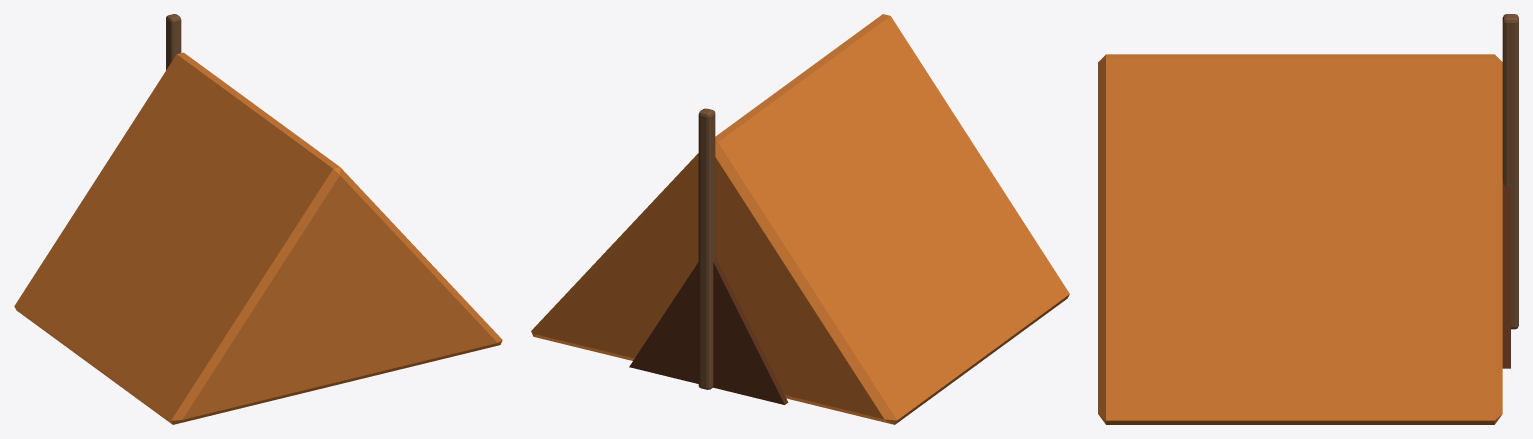
File: tent.fbx
3 renders of one model, left to right at view 1: azimuth 30°, elevation 25°; view 2: azimuth 150°, elevation 25°; view 3: azimuth 270°, elevation 25°, orthographic. The views are drawn at different scales.
Parts seen in each view (by area): view 1: tent; view 2: tent; view 3: tent.
Boxes of the visible parts, <box> form: tent: <box>14,14,502,424</box>; tent: <box>531,14,1069,424</box>; tent: <box>1098,14,1518,424</box>.
Size of the model in its own units: 1.18 by 0.85 by 1.04.
